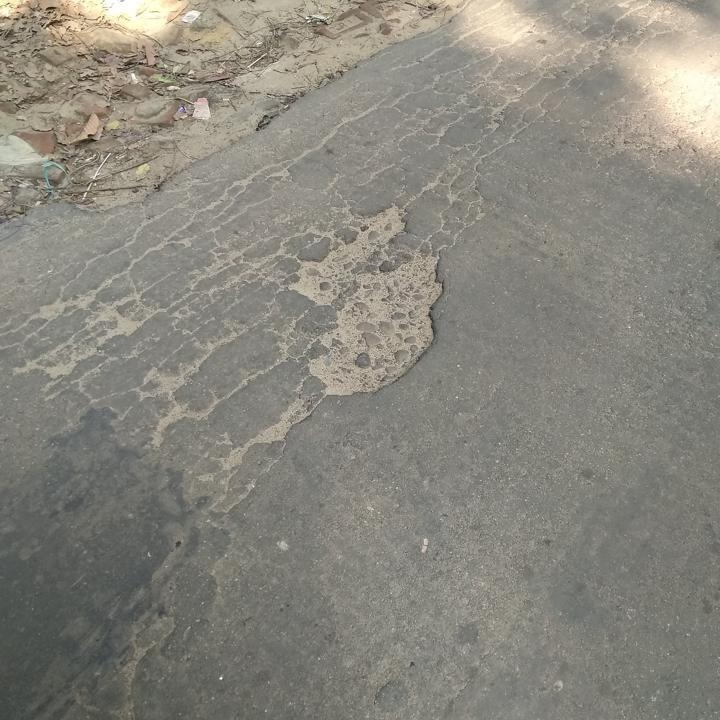pothole: (282, 202, 451, 398)
